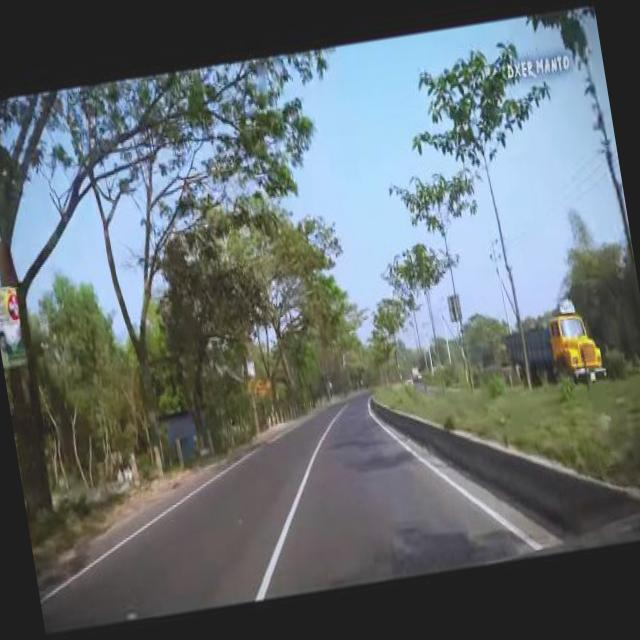truck: (495, 289, 610, 396)
